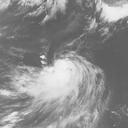cyclone: (32, 50, 105, 111)
